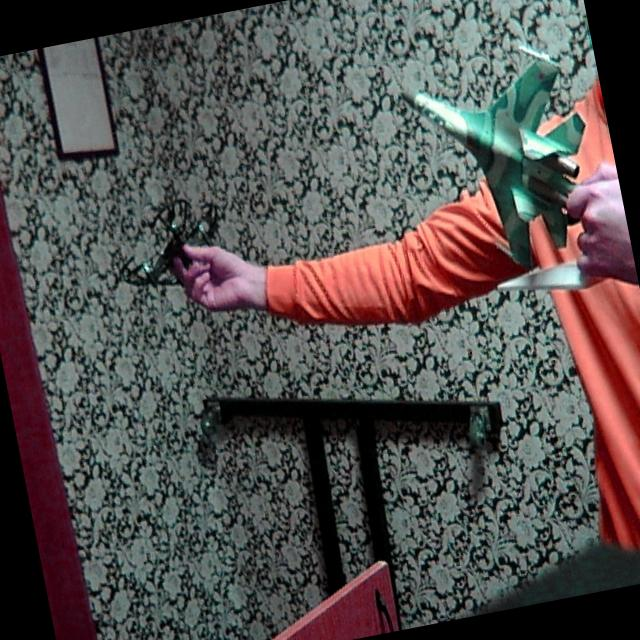drone: (81, 167, 253, 310)
